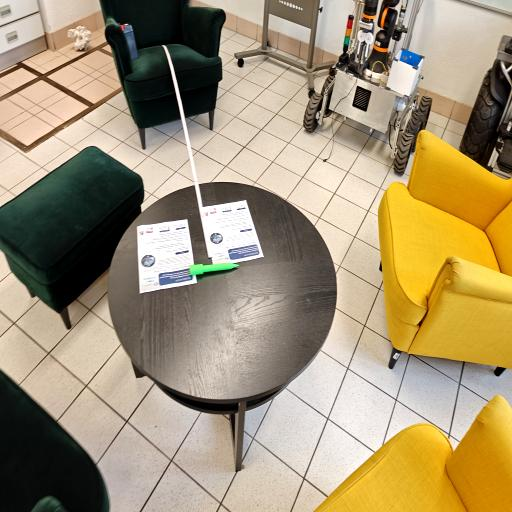Probe-Detection: (190, 263, 239, 276)
